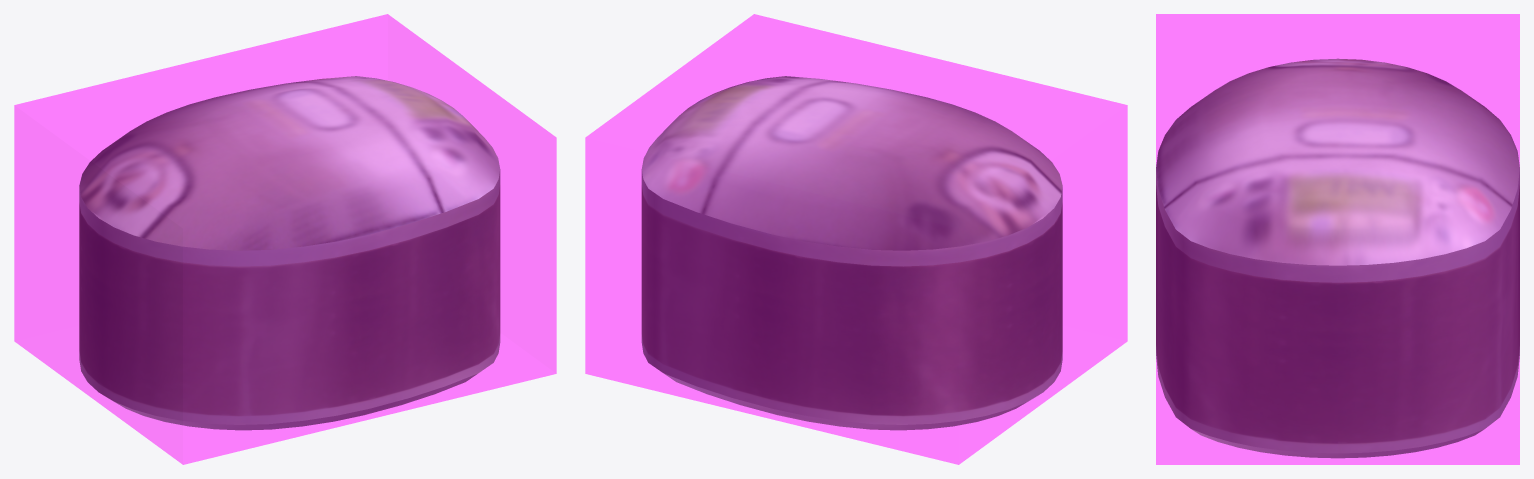
Rendered from ricecooker_A.fbx.
The picture shows the model from 3 angles, left to right: view 1: azimuth 30°, elevation 25°; view 2: azimuth 150°, elevation 25°; view 3: azimuth 270°, elevation 25°; orthographic projection. The views are drawn at different scales.
Parts seen in each view (by area): view 1: ricecooker_A_boundingBox, ricecooker_A; view 2: ricecooker_A_boundingBox, ricecooker_A; view 3: ricecooker_A_boundingBox, ricecooker_A.
Boxes of the visible parts, bbox=[...] form: ricecooker_A_boundingBox: bbox=[14, 14, 556, 464]; ricecooker_A: bbox=[79, 76, 500, 430]; ricecooker_A_boundingBox: bbox=[585, 14, 1127, 464]; ricecooker_A: bbox=[641, 76, 1062, 430]; ricecooker_A_boundingBox: bbox=[1156, 14, 1519, 464]; ricecooker_A: bbox=[1156, 58, 1519, 458].
Bounding box in the file's own units: 34.11 × 20.62 × 26.71.
3 materials, 2 textured.
